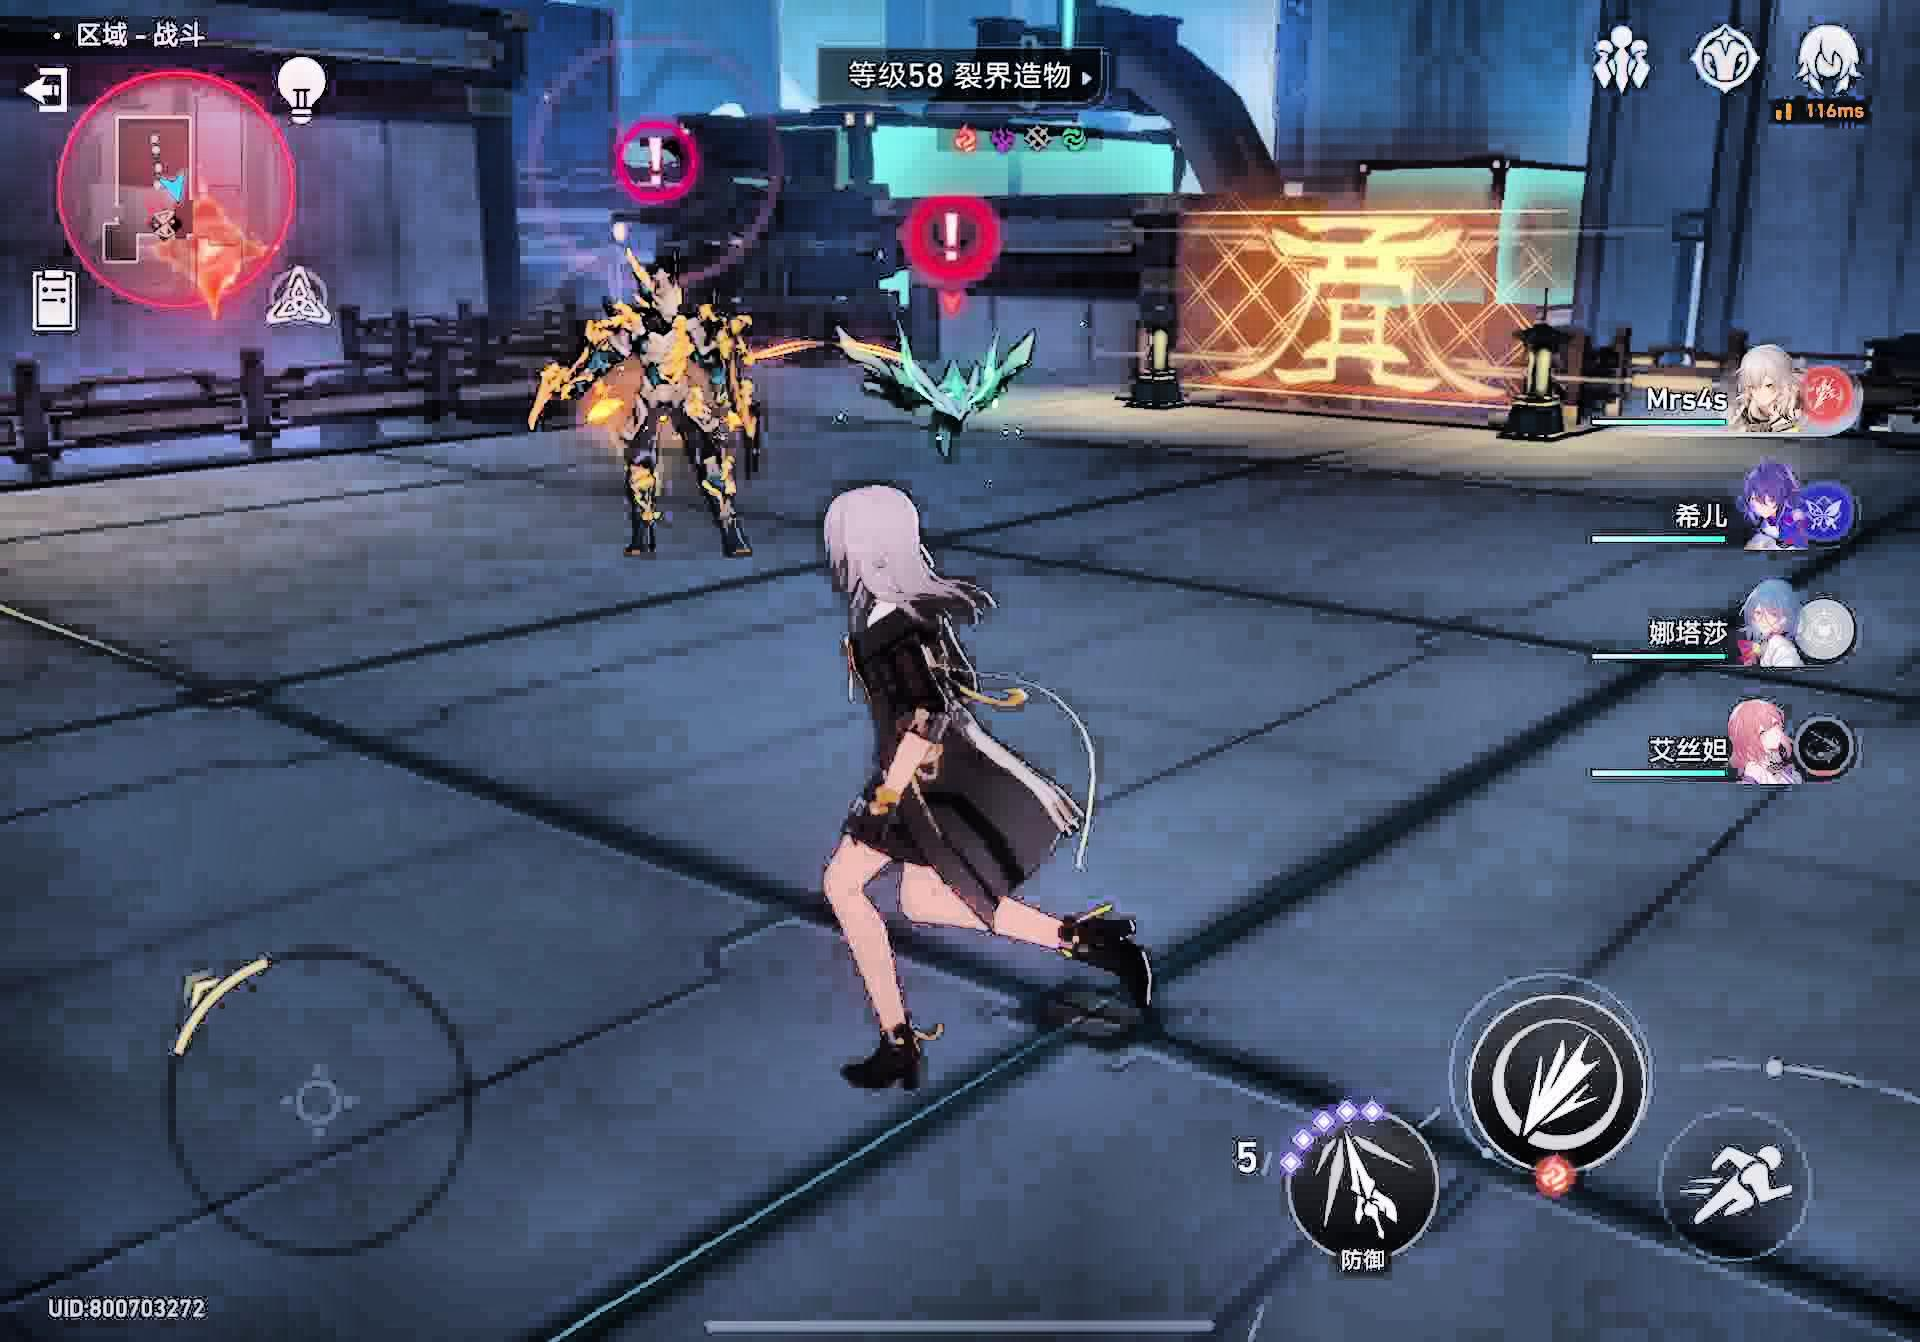Enemy: (516, 263, 808, 553), (824, 317, 1046, 461)
Self: (813, 489, 1158, 1100)
